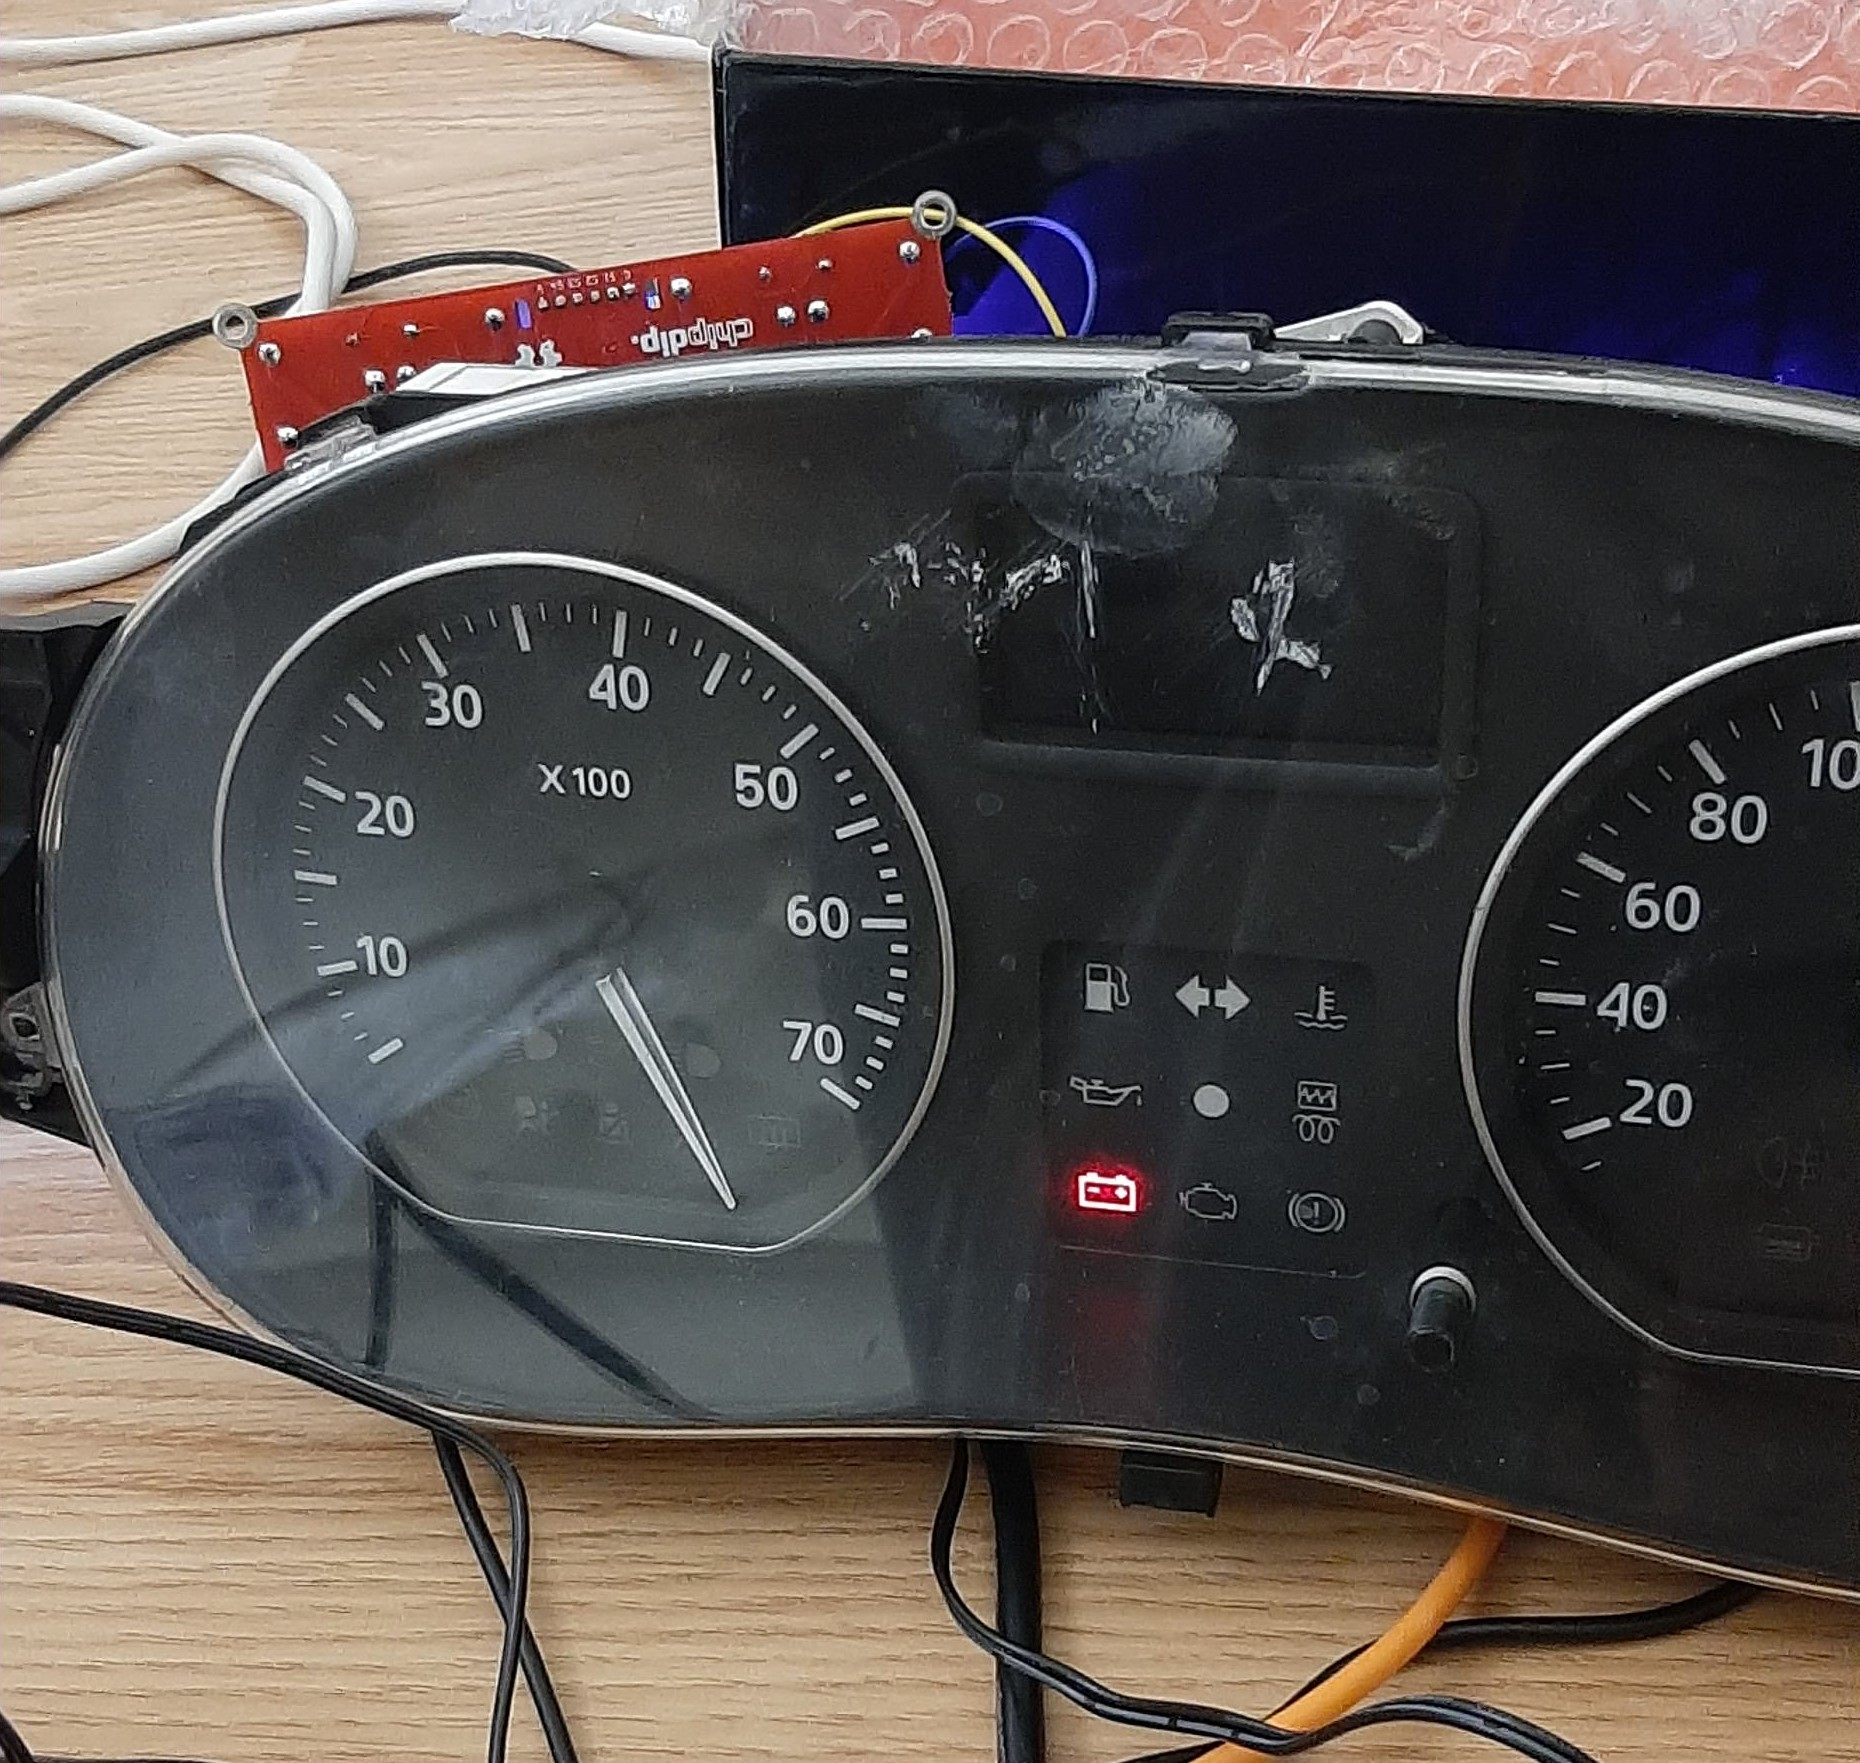accomulator24: (1067, 1163, 1149, 1221)
